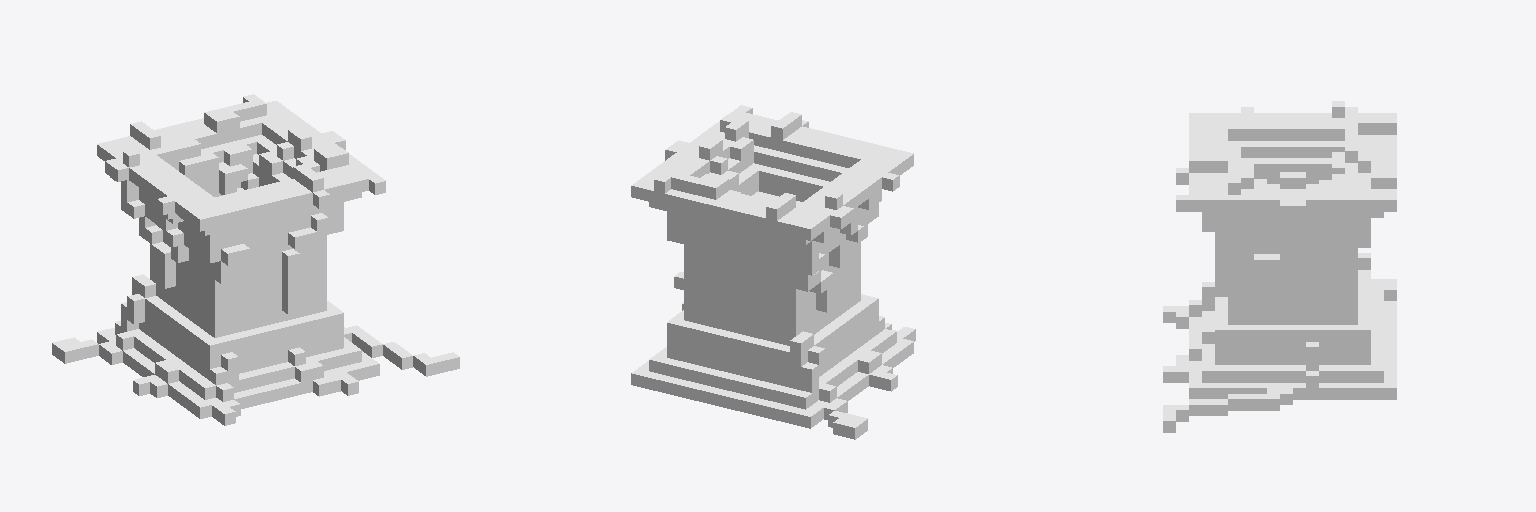
The model's file is WoodenPillar.obj.
The picture shows the model from 3 angles: view 1: azimuth 30°, elevation 25°; view 2: azimuth 150°, elevation 25°; view 3: azimuth 270°, elevation 25°; orthographic projection.
Parts seen in each view (by area): view 1: WoodenPillar; view 2: WoodenPillar; view 3: WoodenPillar.
Part boxes in pixels (x1,y1,x2,y2): WoodenPillar: (52,94,459,425); WoodenPillar: (631,105,915,439); WoodenPillar: (1163,101,1396,432).
Size of the model in its own units: 26 by 18 by 18.